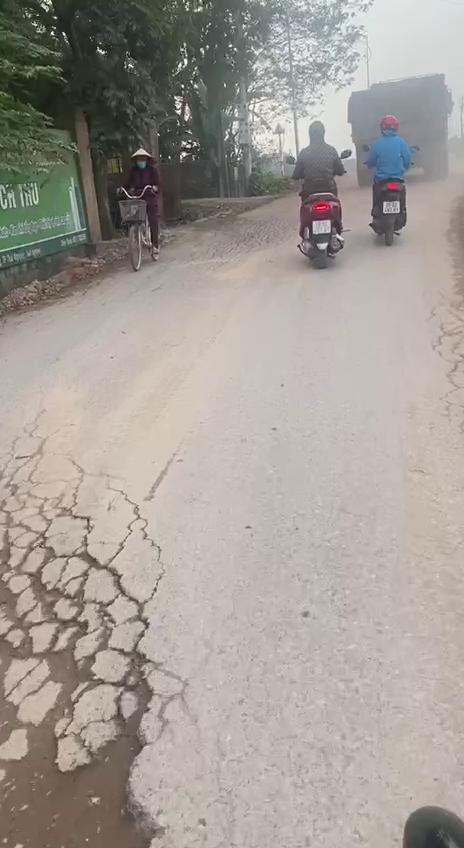pothole: (0, 493, 198, 848)
